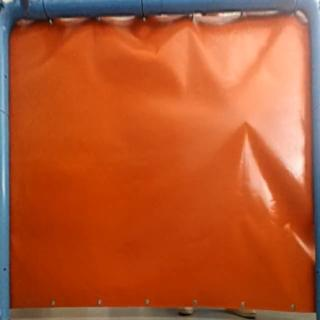Hit-hRxx: (239, 116, 252, 129)
